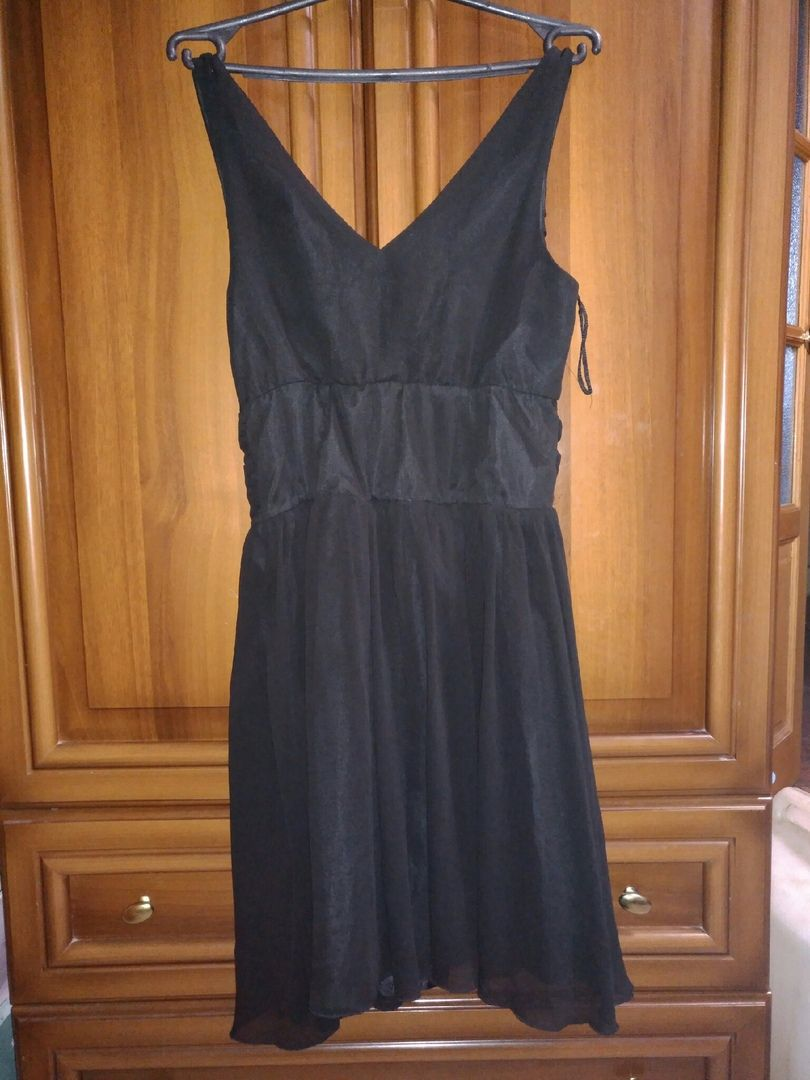clothes: (179, 38, 641, 1045)
